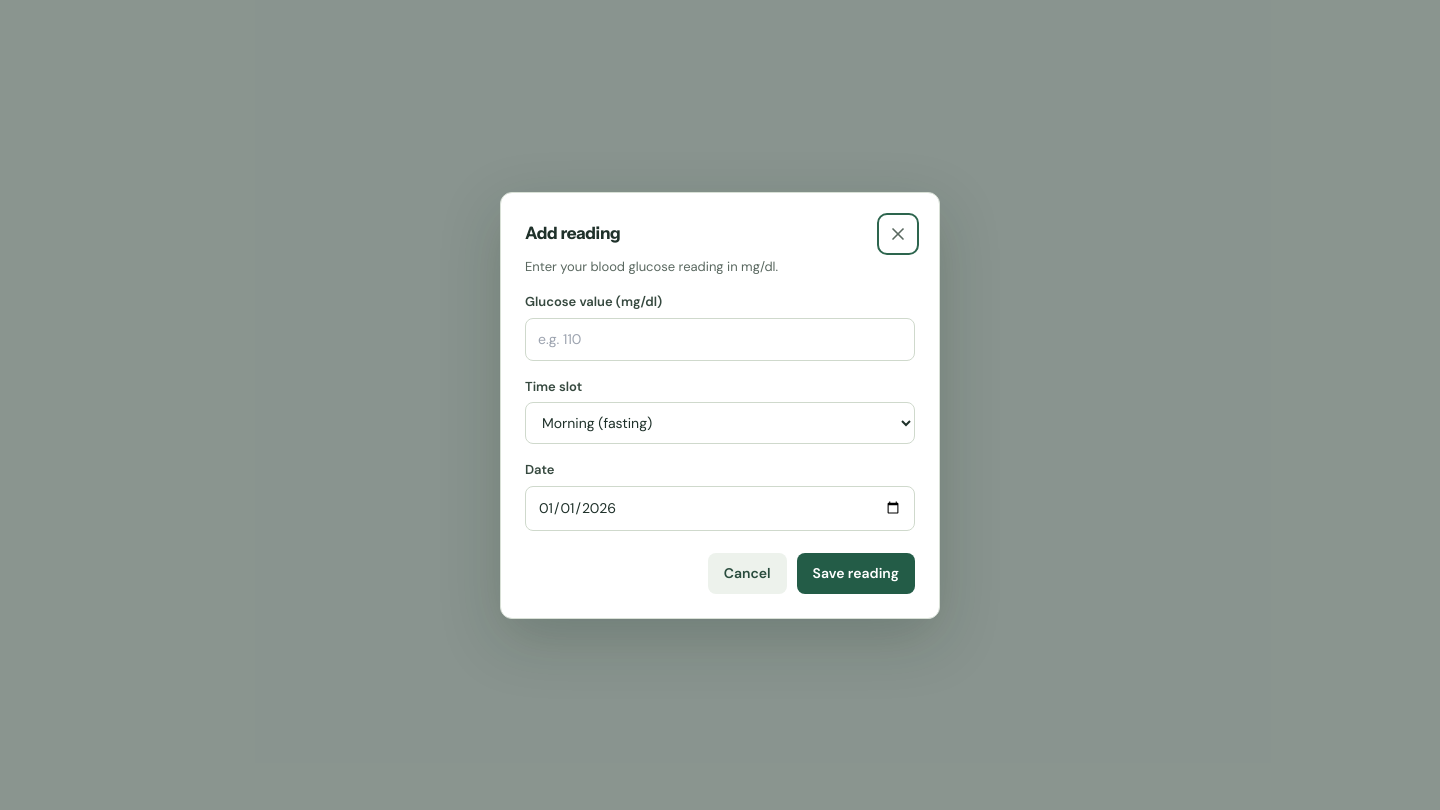
Test: Reading modal › validates whole number bounds for 39
The image size is (1440, 810).
Type "39" into the number field labelled "Glucose value (mg/dl)" at x=720, y=339, box [525,318,915,360]
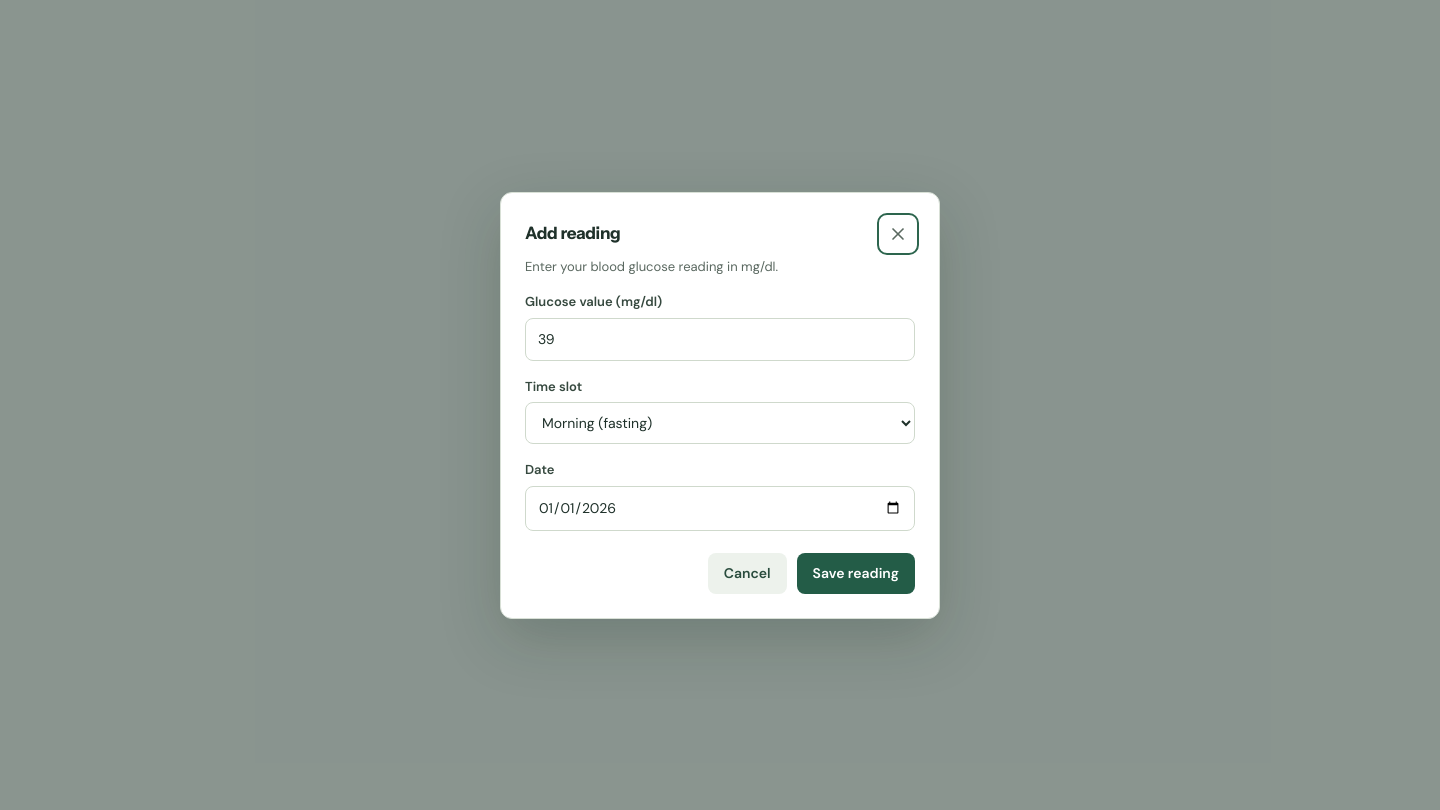
Click the button "Save reading" at x=856, y=573, box [797,552,915,594]
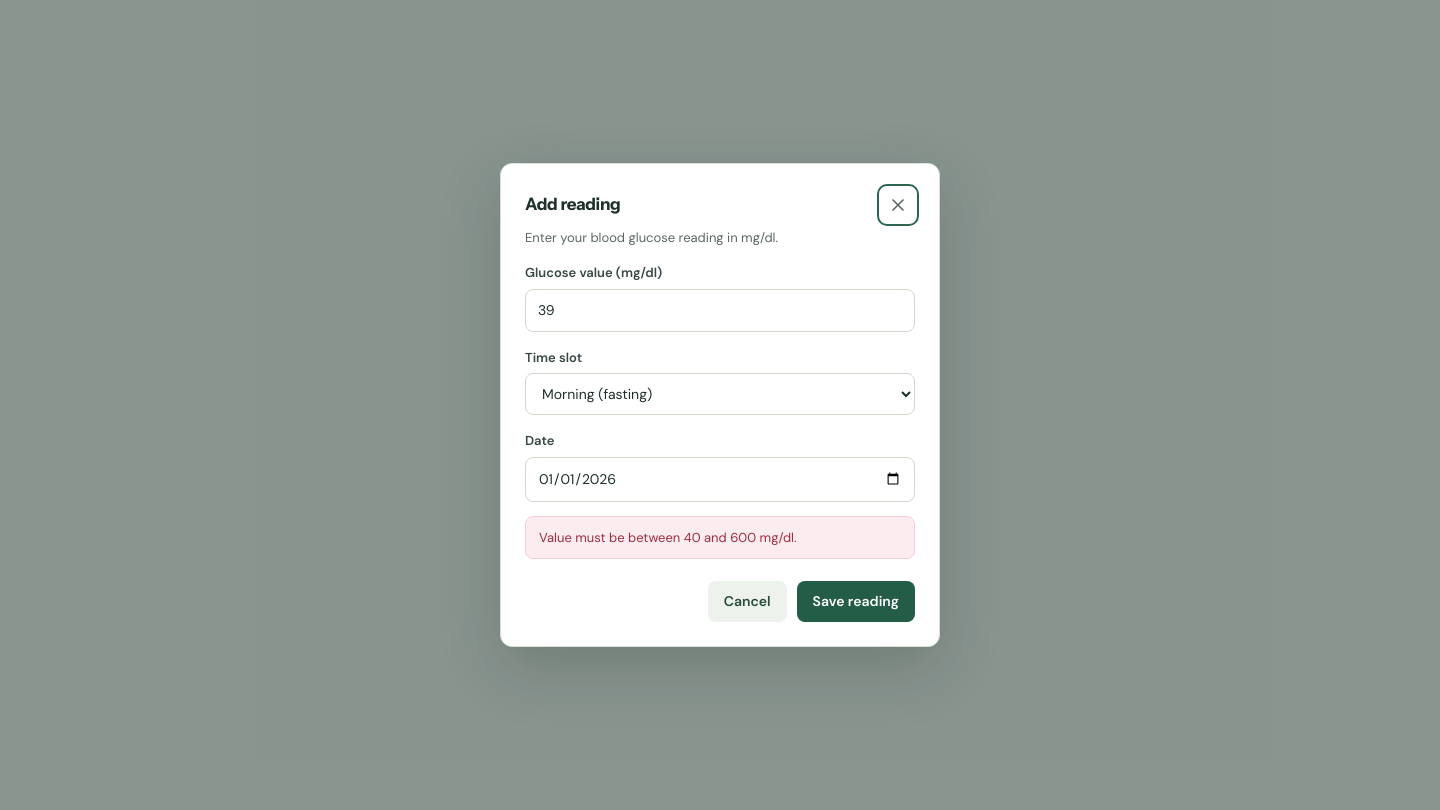
Result: the message reads "Value must be between 40 and 600 mg/dl." at [539,529,796,546]
